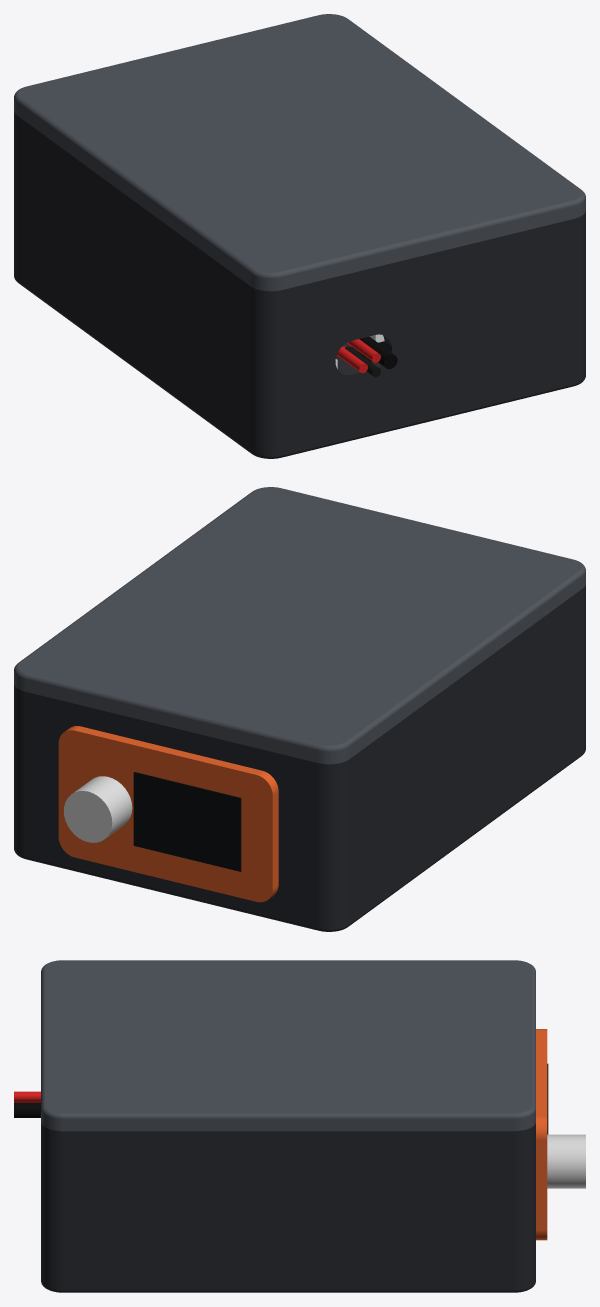
Rendered from wrangler_air_1591s.glb.
The picture shows the model from 3 angles, top to bottom: view 1: azimuth 30°, elevation 25°; view 2: azimuth 150°, elevation 25°; view 3: azimuth 270°, elevation 25°; orthographic projection. The views are drawn at different scales.
Parts seen in each view (by area): view 1: hammond_1591s_body, hammond_1591s_lid; view 2: hammond_1591s_lid, hammond_1591s_body, bezel, screen, knob; view 3: hammond_1591s_lid, hammond_1591s_body, bezel, knob.
Part boxes in pixels (box(x1,y1,x2,y2)): hammond_1591s_body: box(14, 112, 585, 458); hammond_1591s_lid: box(14, 14, 585, 291); hammond_1591s_lid: box(14, 487, 585, 764); hammond_1591s_body: box(14, 585, 585, 931); bezel: box(58, 726, 278, 902); screen: box(133, 772, 241, 871); knob: box(63, 776, 132, 842); hammond_1591s_lid: box(41, 960, 535, 1131); hammond_1591s_body: box(41, 1123, 535, 1292); bezel: box(536, 1029, 547, 1240); knob: box(547, 1134, 585, 1188).
Bounding box in the file's own units: 82.2 × 44 × 127.
